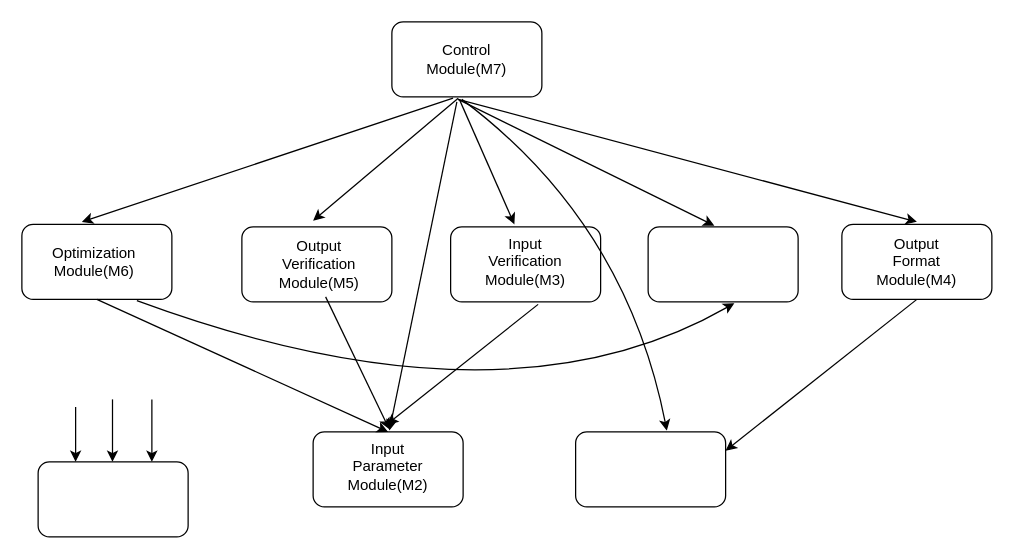
Some shapes in this 1014 by 559 pixel diagram are drawn without their labels. Here are the shapes that lost their labels. From the top down, the centre of each, then its label:
the point at 722,264: Plotting Module(M8)
the point at 650,469: Hardware Hiding Modules(M1)
the point at 112,499: Sequence Data Structure Module(M9)
